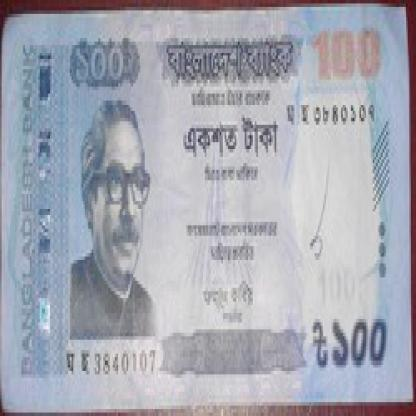one hundred taka: (310, 18, 391, 84), (329, 309, 398, 374), (66, 38, 142, 87)
